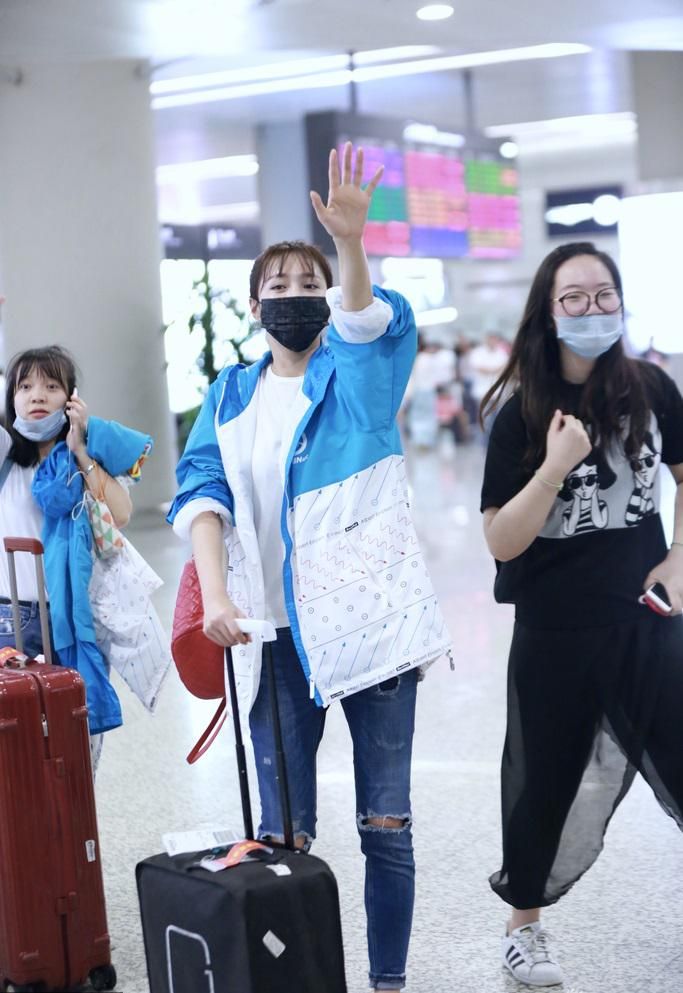OK: (261, 265, 339, 343)
WRONG: (552, 277, 624, 353), (11, 382, 68, 440)
